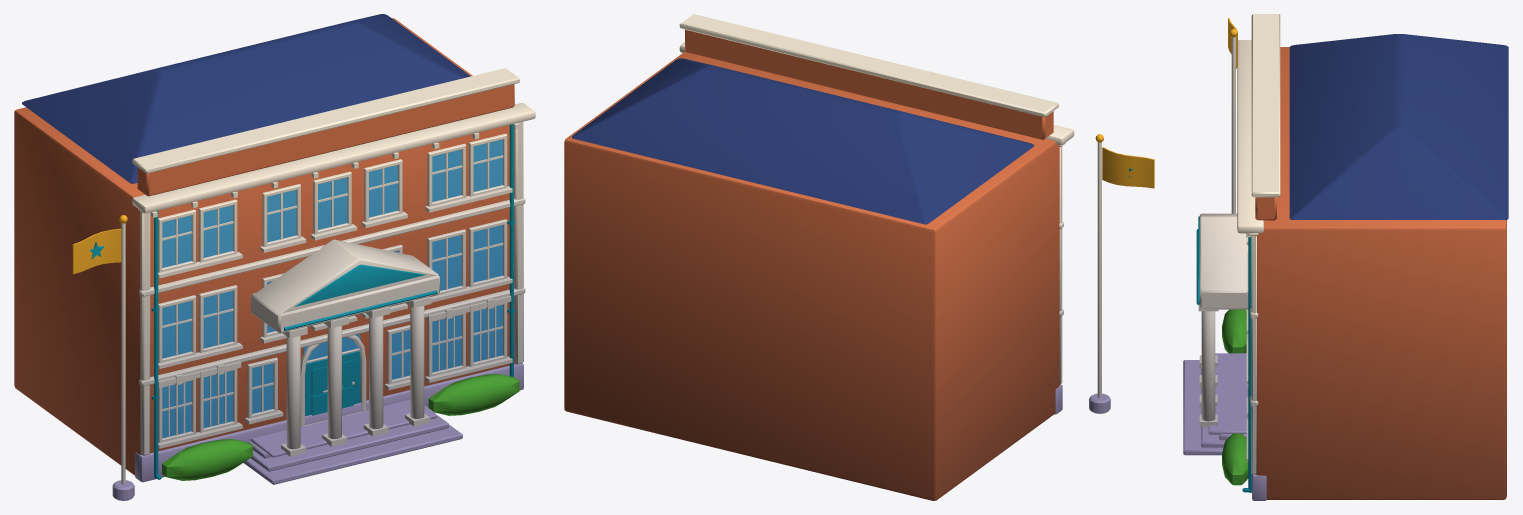
The model's file is high_school.glb.
3 views of the same model, side by side, from view 1: azimuth 30°, elevation 25°; view 2: azimuth 150°, elevation 25°; view 3: azimuth 270°, elevation 25° (orthographic). The views are drawn at different scales.
Parts seen in each view (by area): view 1: high_school; view 2: high_school; view 3: high_school.
Part boxes in pixels (box(x1,y1,x2,y2)): high_school: box(14, 14, 535, 500); high_school: box(564, 14, 1154, 500); high_school: box(1183, 14, 1508, 500).
Bounding box in the file's own units: 14.75 × 10.15 × 9.04.
